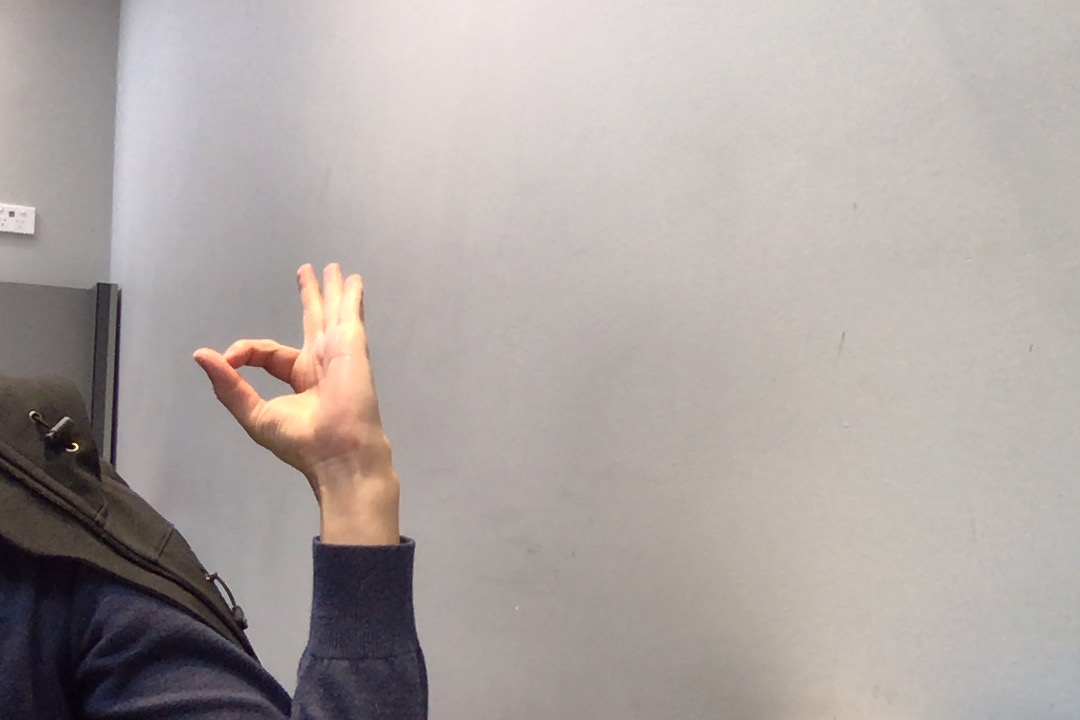oksign: (182, 252, 409, 481)
